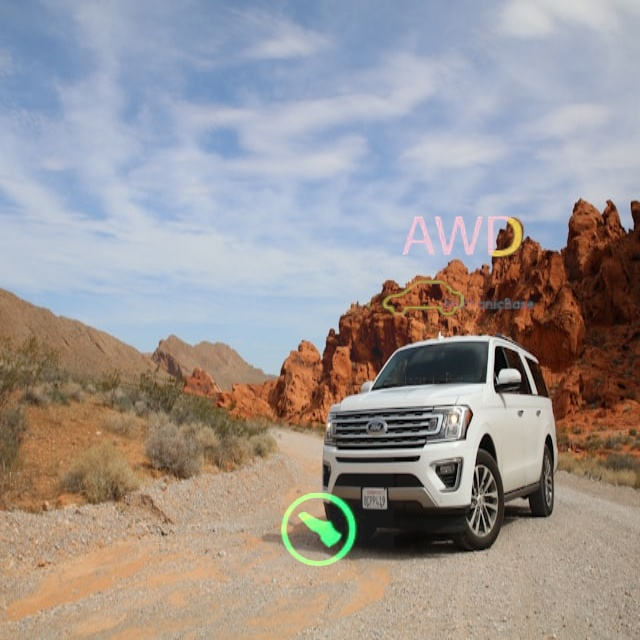symbol: (299, 207, 487, 395), (381, 158, 540, 317), (249, 458, 394, 603)
